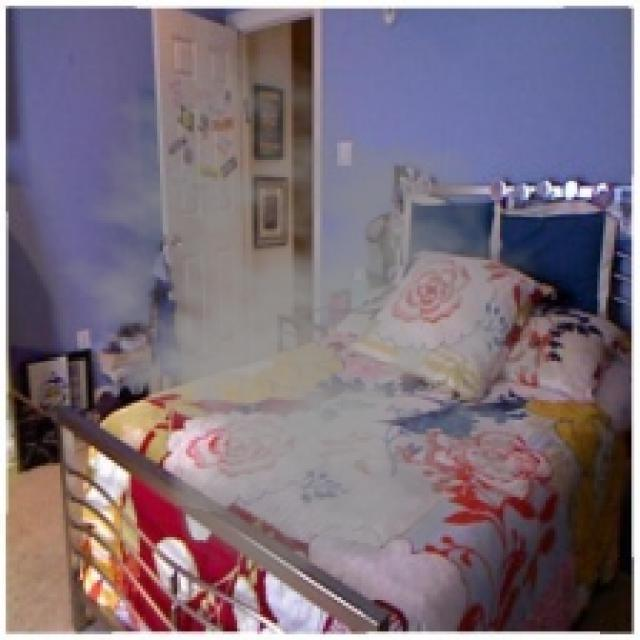Smoke: (34, 46, 580, 588)
